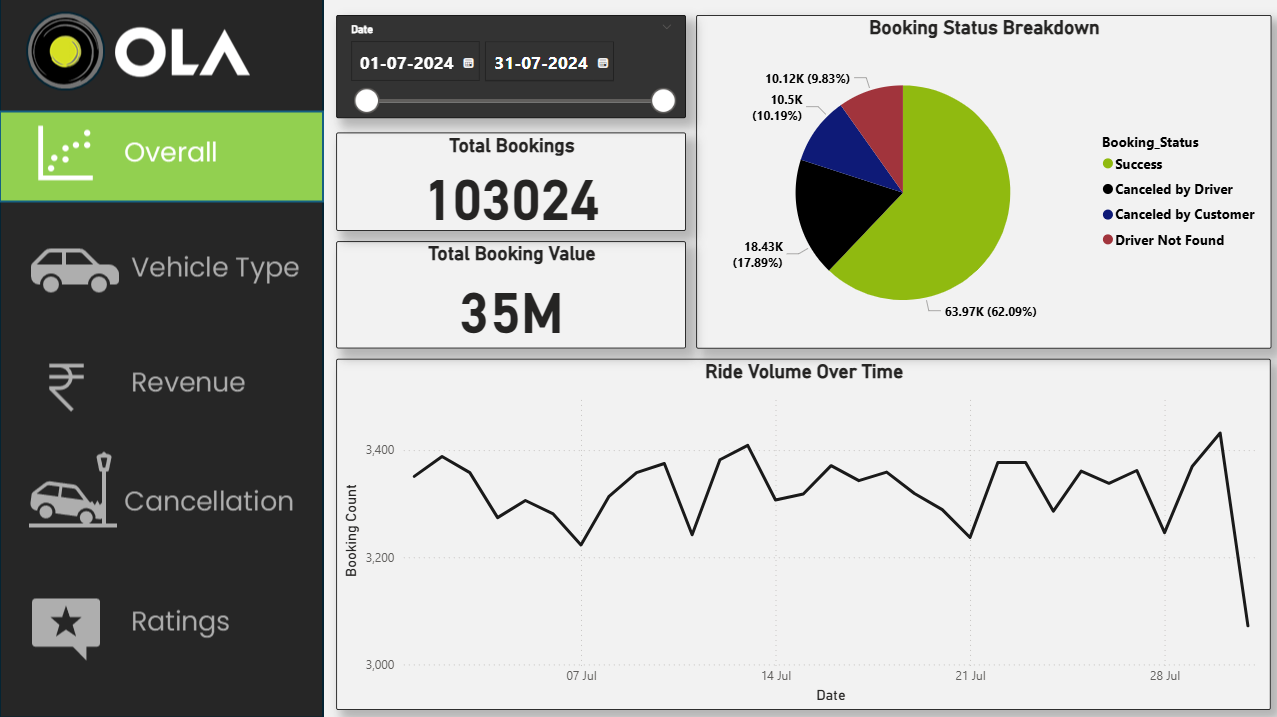

This screenshot's page, from the dashboard's own definition file:
{"tool":"powerbi","page":{"name":"Overall","canvas":[1280,720],"ordinal":0},"visuals":[{"type":"actionButton","box":[0,220.9,323.8,90.6],"z":0},{"type":"actionButton","box":[0,443.2,323.8,113.9],"z":1000},{"type":"actionButton","box":[0,337.6,323.8,90.6],"z":2000},{"type":"actionButton","box":[0,579.1,323.8,90.6],"z":3000},{"type":"lineChart","title":"Ride Volume Over Time","fields":{"Category":["olasheet.Date"],"Y":["CountNonNull(olasheet.Time)"]},"box":[336.2,358.1,934.5,351.3],"z":4000},{"type":"pieChart","title":"Booking Status Breakdown","fields":{"Category":["olasheet.Booking_Status"],"Y":["CountNonNull(olasheet.Booking_Status)"]},"box":[695.7,15.1,575,333.4],"z":5000},{"type":"slicer","fields":{"Values":["olasheet.Date"]},"box":[336.2,15.1,349.9,102.9],"z":6000},{"type":"card","title":"Total Bookings","fields":{"Values":["CountNonNull(olasheet.Booking_ID)"]},"box":[336.2,133.1,349.9,98.8],"z":7000},{"type":"card","title":"Total Booking Value","fields":{"Values":["Sum(olasheet.Booking_Value)","select"]},"box":[336.2,241.5,349.9,107],"z":8000}]}

Visuals, with their boxes in screenshot pixels (x1, y1, x2, y2), scaled from the page's 1280x720 canvas onto the 1277x717 screenshot:
actionButton: 0,220,323,310
actionButton: 0,441,323,555
actionButton: 0,336,323,426
actionButton: 0,577,323,667
"Ride Volume Over Time" lineChart: 335,357,1268,706
"Booking Status Breakdown" pieChart: 694,15,1268,347
slicer - olasheet.Date: 335,15,684,118
"Total Bookings" card: 335,133,684,231
"Total Booking Value" card: 335,240,684,347
